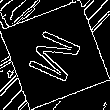M_SE: (23, 23, 87, 87)
